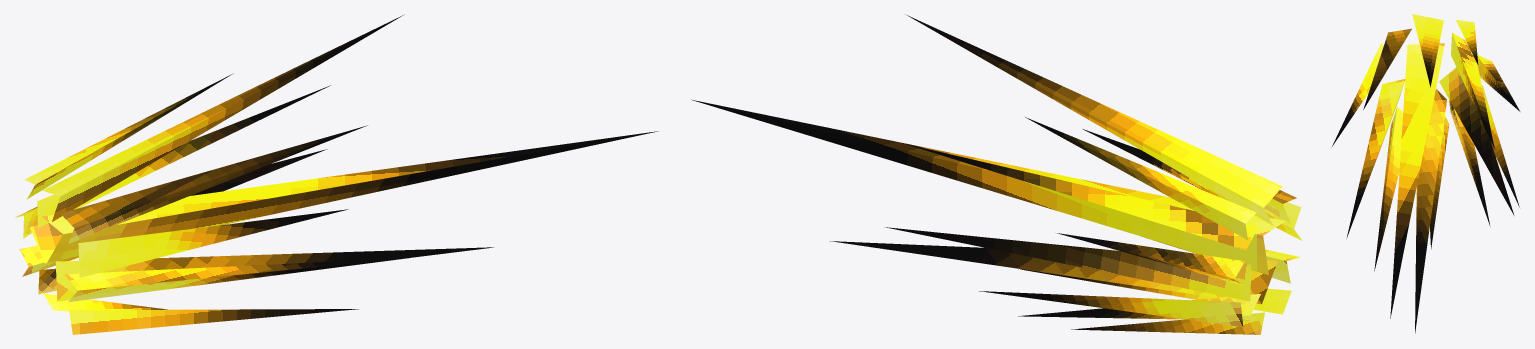
File: bulletimpact.gltf
3 views of the same model, side by side, from view 1: azimuth 30°, elevation 25°; view 2: azimuth 150°, elevation 25°; view 3: azimuth 270°, elevation 25° (orthographic). The views are drawn at different scales.
Visible parts, largest first — view 1: bulletimpact; view 2: bulletimpact; view 3: bulletimpact.
Boxes of the visible parts, x1,y1,x2,y2 form: bulletimpact: [15, 14, 657, 334]; bulletimpact: [691, 15, 1302, 334]; bulletimpact: [1331, 14, 1520, 333].
Size of the model in its own units: 0.8607 by 0.3727 by 0.2787.
1 material, 1 textured.
